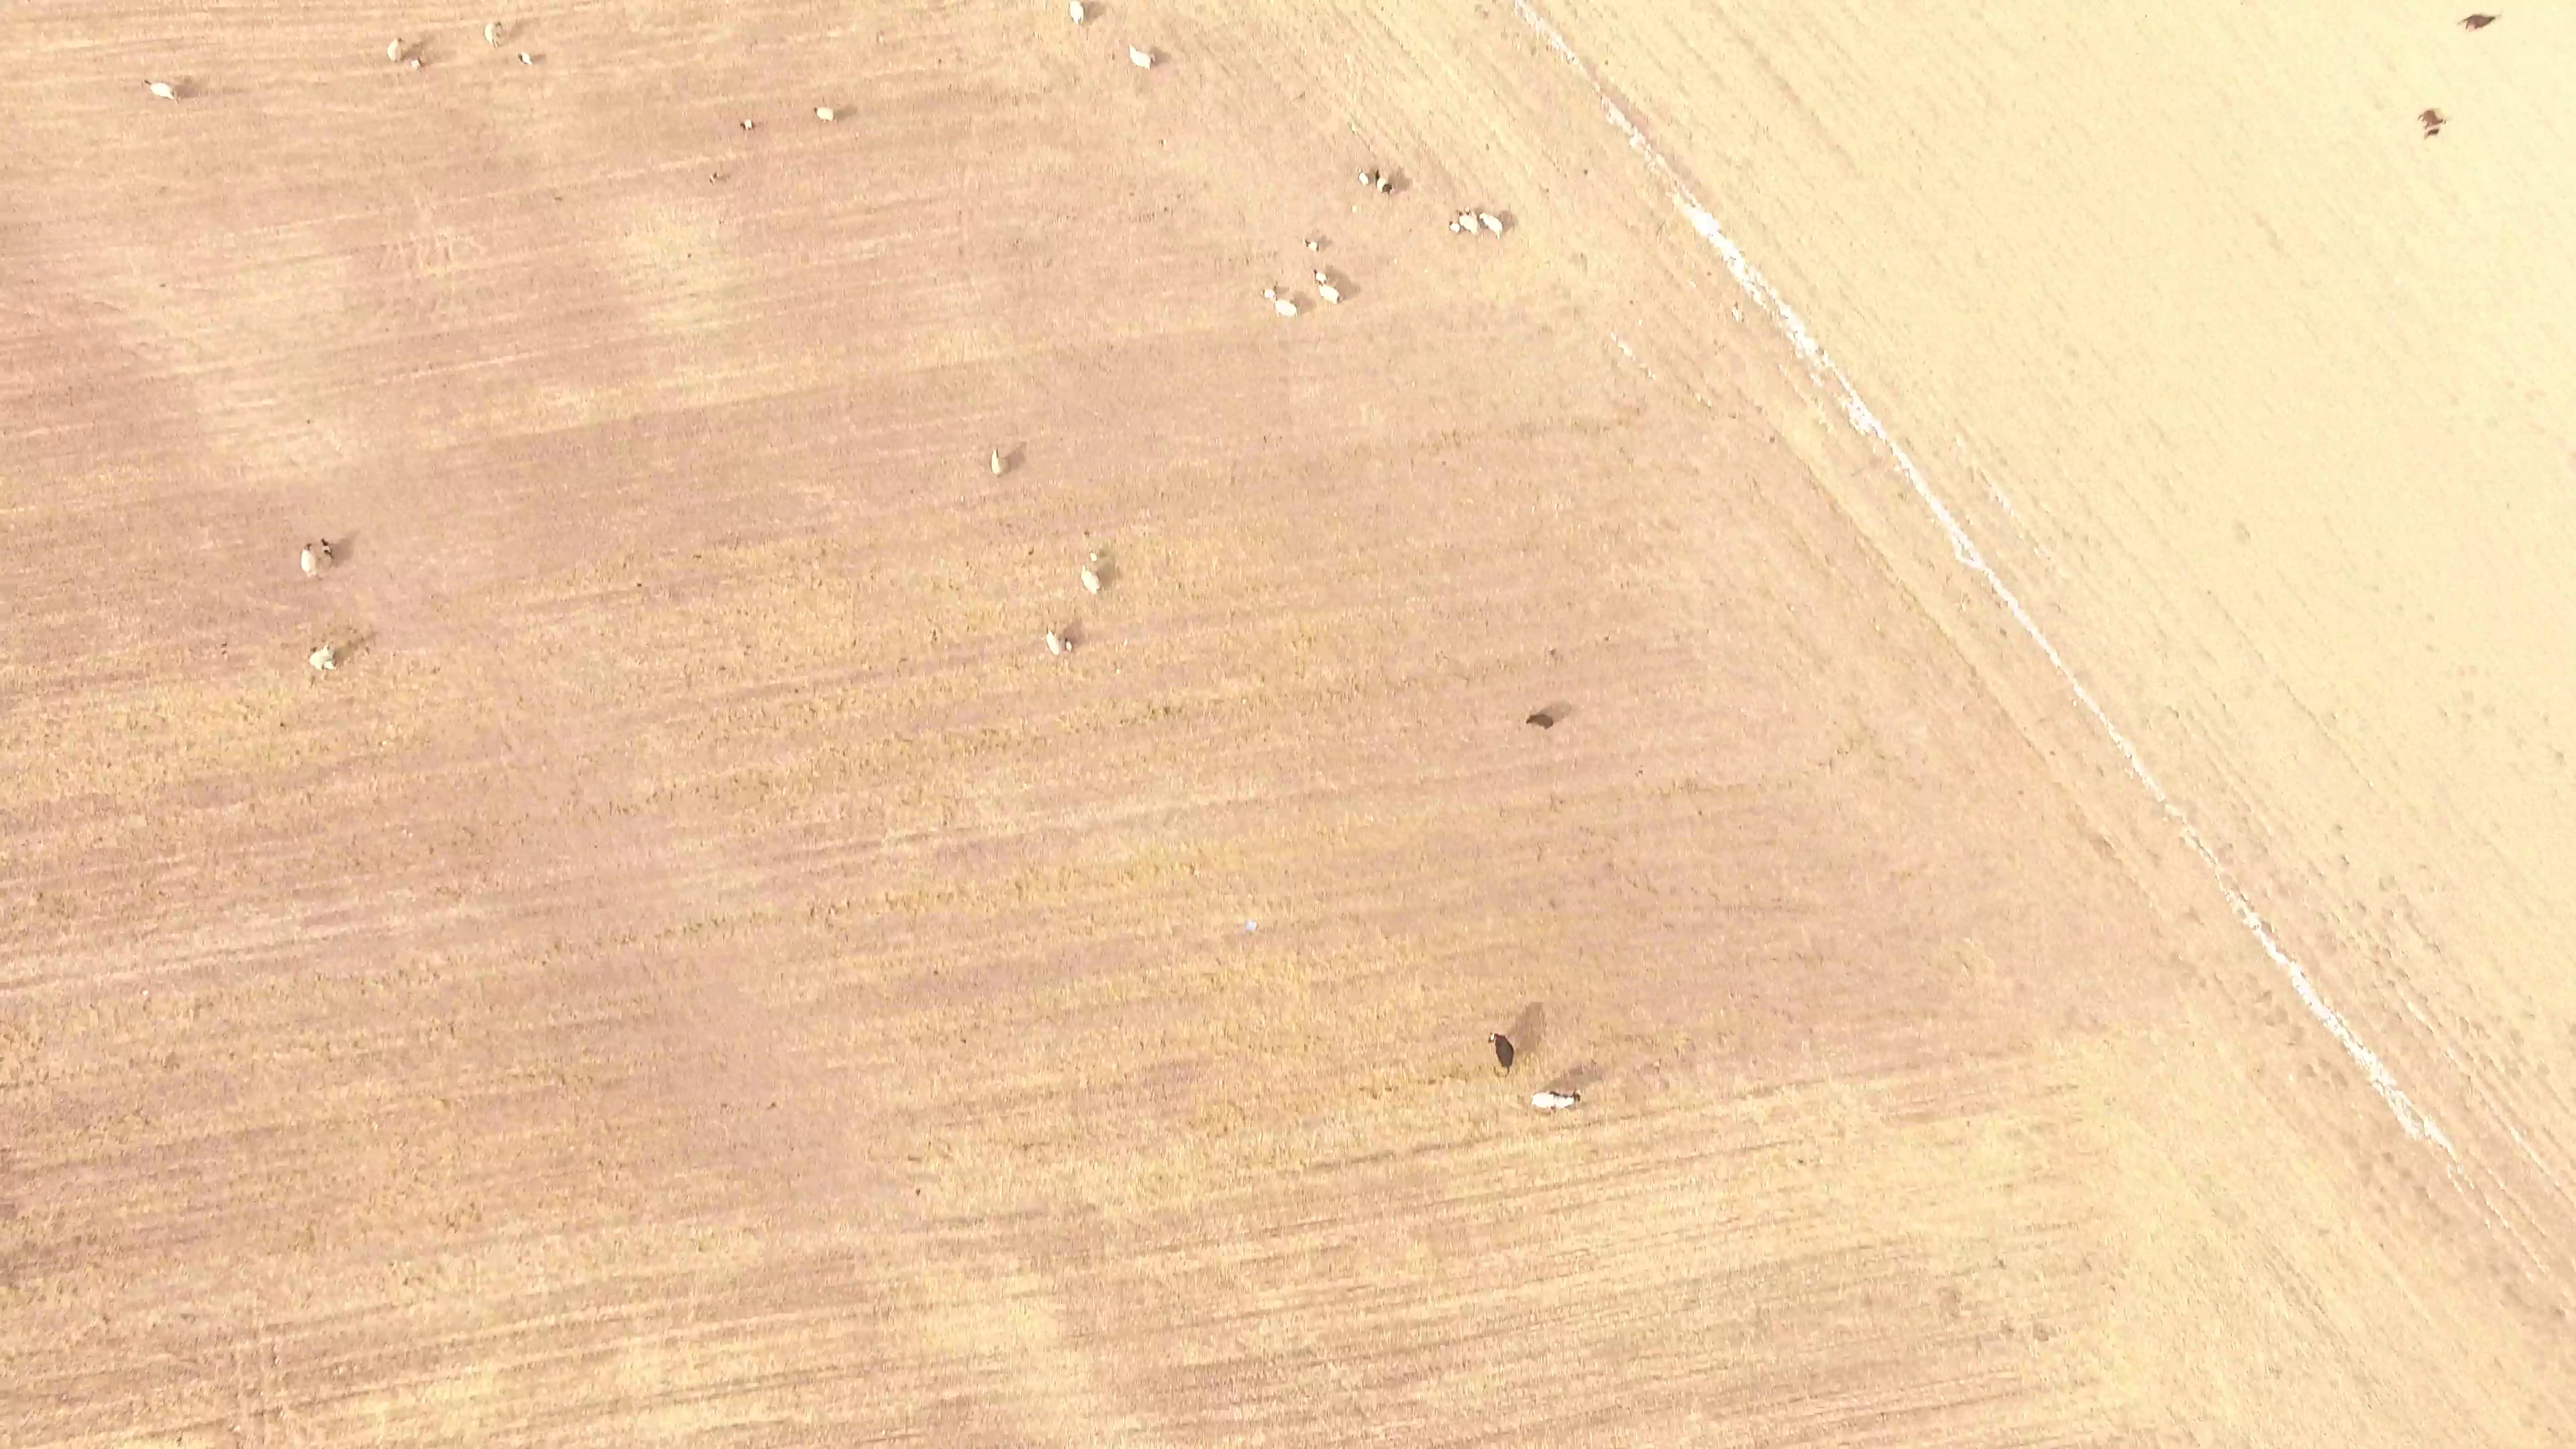sheep: (1487, 1028, 1518, 1072), (1532, 1088, 1584, 1110), (1125, 43, 1158, 71), (308, 645, 339, 673), (2459, 10, 2499, 33), (143, 75, 178, 101), (1078, 564, 1104, 598), (1042, 623, 1065, 660), (297, 541, 319, 579), (1273, 294, 1303, 319), (2416, 105, 2449, 130), (1477, 211, 1506, 237), (1064, 1, 1091, 27), (482, 19, 505, 48), (810, 103, 841, 125), (384, 36, 407, 64), (986, 447, 1007, 477), (1523, 711, 1556, 731), (1316, 281, 1344, 304), (1373, 170, 1395, 197), (319, 536, 337, 563), (1354, 167, 1371, 189), (1061, 633, 1077, 655), (1256, 286, 1279, 302), (737, 117, 759, 132), (406, 56, 429, 71), (2422, 126, 2443, 142), (515, 52, 538, 66), (704, 170, 724, 185), (1311, 268, 1330, 284), (1085, 547, 1101, 563)
unknown: (171, 75, 202, 102), (1000, 449, 1027, 477), (1456, 209, 1482, 234), (1550, 1076, 1583, 1093), (1306, 233, 1330, 252), (506, 19, 526, 41), (1566, 1064, 1587, 1081), (147, 1429, 168, 1441), (372, 1401, 387, 1416), (1447, 219, 1462, 234), (213, 1416, 227, 1429), (2259, 919, 2274, 932), (2272, 952, 2288, 964), (2039, 1330, 2051, 1344), (72, 1233, 85, 1248), (1425, 1076, 1438, 1087), (1585, 1067, 1597, 1081), (2361, 1050, 2373, 1064), (1096, 548, 1110, 561), (431, 1354, 442, 1366), (100, 1313, 112, 1326), (1161, 704, 1173, 717), (366, 629, 378, 642), (1997, 627, 2010, 639), (1766, 434, 1778, 445), (1301, 298, 1314, 309), (2383, 1150, 2394, 1164), (2349, 1043, 2361, 1055), (731, 1376, 743, 1388), (1308, 1358, 1320, 1369), (178, 1311, 191, 1322), (4, 1270, 16, 1281), (1996, 1258, 2007, 1271), (306, 1232, 317, 1245), (446, 1220, 458, 1230), (473, 1212, 484, 1225), (1322, 1161, 1334, 1171), (1353, 1155, 1366, 1166), (905, 1154, 917, 1164), (1020, 1141, 1032, 1154), (1461, 1139, 1474, 1149), (1220, 1124, 1231, 1135), (1369, 1090, 1380, 1102), (807, 906, 818, 918), (206, 1419, 216, 1429), (804, 1411, 814, 1423), (273, 1407, 283, 1417), (189, 1356, 200, 1366), (268, 1352, 279, 1363), (447, 1340, 458, 1351), (464, 1338, 475, 1348), (2004, 1325, 2016, 1336), (400, 1278, 411, 1288), (415, 1275, 427, 1285), (1318, 1246, 1328, 1256), (468, 1200, 478, 1210), (912, 1187, 923, 1197), (132, 1106, 143, 1117), (768, 1100, 779, 1110), (1754, 1086, 1764, 1096), (1595, 1073, 1605, 1083), (351, 1038, 361, 1050), (1534, 1003, 1544, 1014), (2261, 989, 2271, 1000), (694, 920, 704, 930), (1248, 920, 1259, 930), (36, 890, 46, 901), (353, 859, 363, 869), (427, 845, 437, 855), (989, 727, 999, 737), (277, 720, 288, 731), (792, 686, 802, 696), (898, 655, 909, 665), (1548, 647, 1559, 658), (1073, 619, 1083, 631), (634, 580, 645, 590), (1817, 347, 1827, 358), (1621, 345, 1631, 356), (1580, 166, 1591, 176), (1529, 44, 1539, 54), (1481, 9, 1491, 19), (141, 1203, 151, 1215), (251, 1409, 261, 1420), (612, 1396, 622, 1407), (661, 1390, 673, 1400), (1303, 1346, 1313, 1356), (882, 1308, 892, 1318), (85, 1238, 95, 1248), (1384, 1084, 1395, 1094), (2268, 946, 2278, 956), (27, 898, 37, 908), (712, 792, 722, 802), (761, 780, 771, 790), (1082, 529, 1093, 539), (1349, 203, 1359, 214), (305, 1399, 315, 1409), (26, 1349, 36, 1359), (2553, 1307, 2563, 1317), (1413, 1146, 1423, 1156), (1, 1146, 8, 1156), (396, 967, 406, 977), (1026, 548, 1036, 558)
